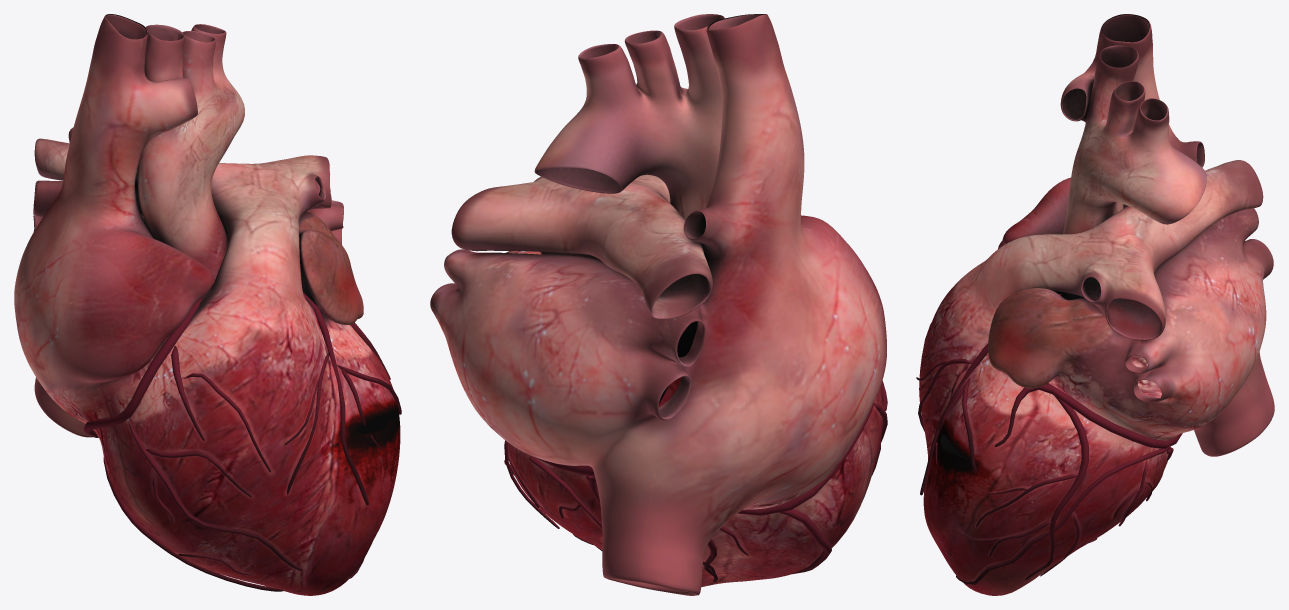
Rendered from corazon_armablanca.fbx.
3 views of the same model, side by side, from view 1: azimuth 30°, elevation 25°; view 2: azimuth 150°, elevation 25°; view 3: azimuth 270°, elevation 25° (orthographic). The views are drawn at different scales.
Visible parts, largest first — view 1: corazon_armablanca; view 2: corazon_armablanca; view 3: corazon_armablanca.
Boxes of the visible parts, <box> form: corazon_armablanca: <box>14,14,401,595</box>; corazon_armablanca: <box>430,14,887,595</box>; corazon_armablanca: <box>916,14,1274,595</box>.
Bounding box in the file's own units: 108 × 174 × 109.
2 materials, 1 textured.
